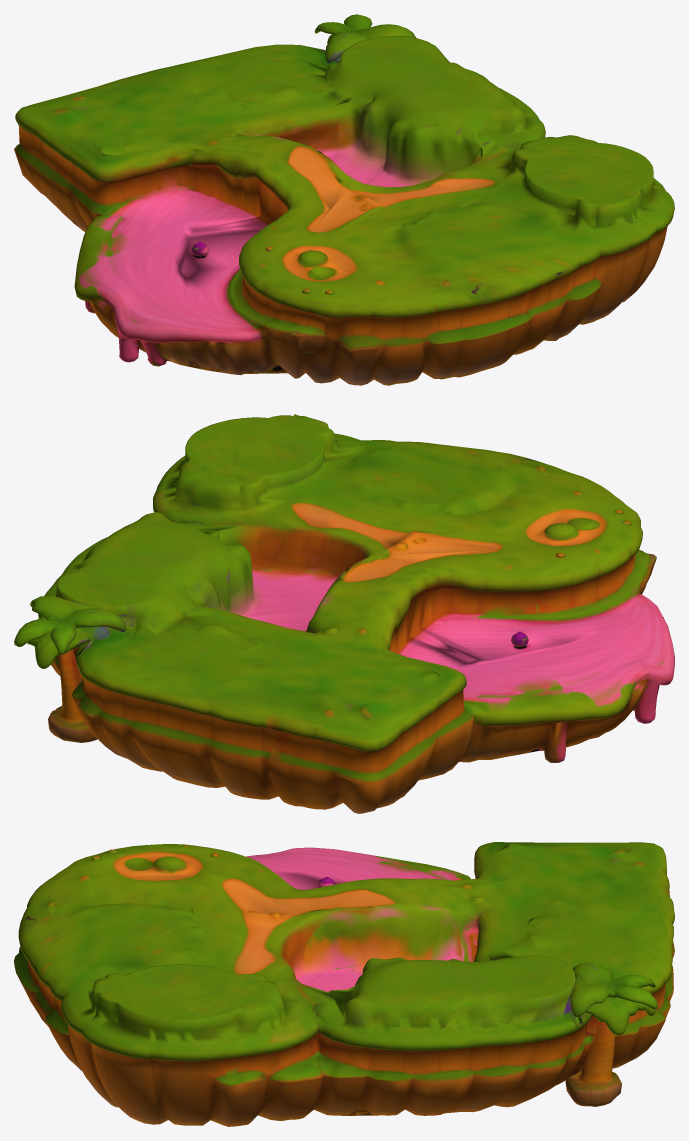
Rendered from Scenary.fbx.
3 views of the same model, one above another, from view 1: azimuth 30°, elevation 25°; view 2: azimuth 150°, elevation 25°; view 3: azimuth 270°, elevation 25° (orthographic). The views are drawn at different scales.
Parts seen in each view (by area): view 1: LowPoly; view 2: LowPoly; view 3: LowPoly.
Boxes of the visible parts, x1,y1,x2,y2 form: LowPoly: [14, 14, 674, 385]; LowPoly: [14, 414, 674, 813]; LowPoly: [14, 842, 674, 1126].
Size of the model in its own units: 1103 by 267 by 1221.
